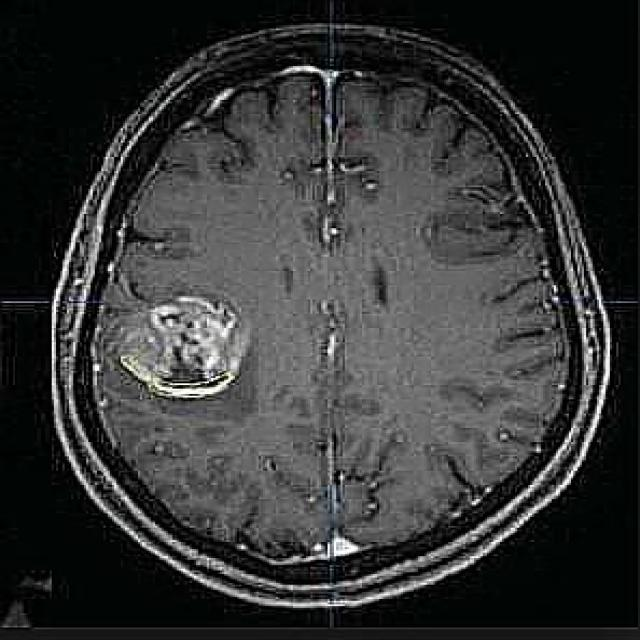Tumor-Cell: (101, 278, 272, 400)
